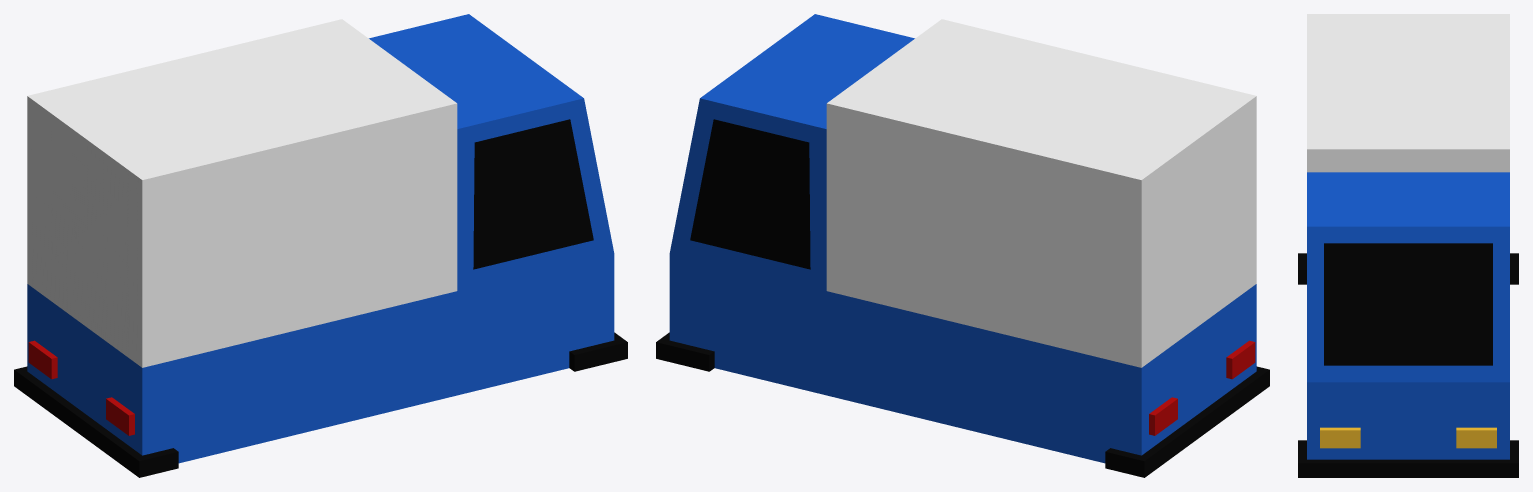
File: CityTruckA_03.fbx
3 views of the same model, side by side, from view 1: azimuth 30°, elevation 25°; view 2: azimuth 150°, elevation 25°; view 3: azimuth 270°, elevation 25° (orthographic). The views are drawn at different scales.
Parts seen in each view (by area): view 1: CityTruckA_03; view 2: CityTruckA_03; view 3: CityTruckA_03.
Part boxes in pixels (<box>): CityTruckA_03: <box>14,14,627,477</box>; CityTruckA_03: <box>656,14,1269,477</box>; CityTruckA_03: <box>1298,14,1518,477</box>.
Size of the model in its own units: 0.5913 by 0.3379 by 0.2626.
